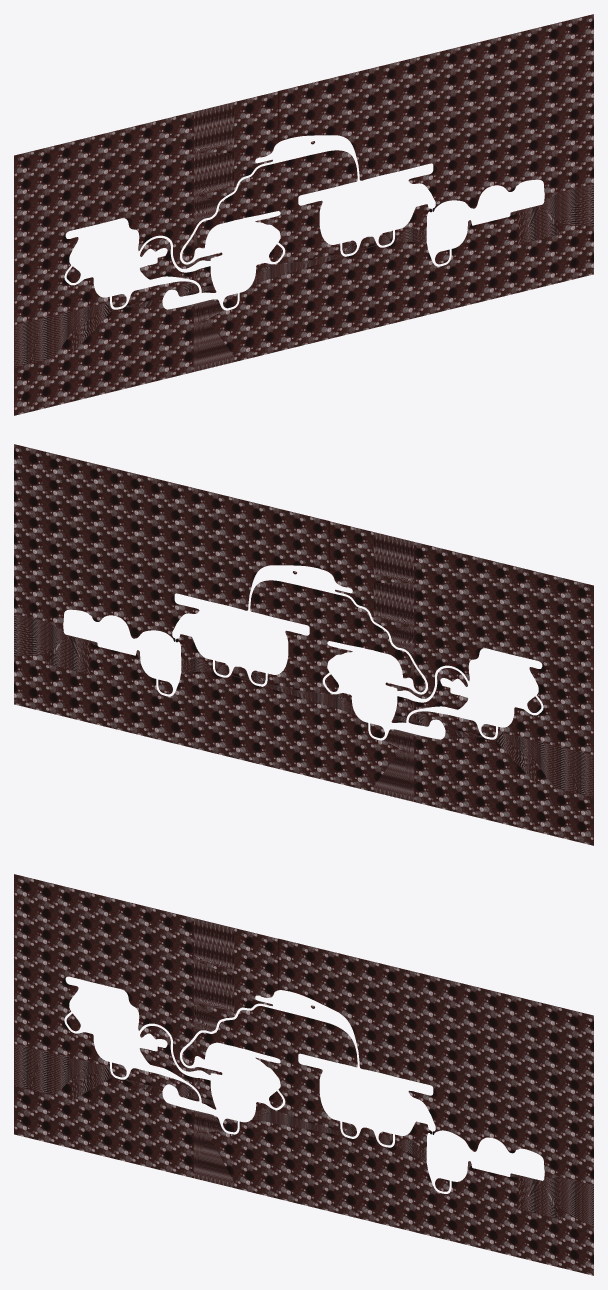
Rendered from star03.glb.
The picture shows the model from 3 angles, top to bottom: view 1: azimuth 30°, elevation 25°; view 2: azimuth 150°, elevation 25°; view 3: azimuth 330°, elevation 25°; orthographic projection.
Parts seen in each view (by area): view 1: star03; view 2: star03; view 3: star03.
Part boxes in pixels (box(x1,y1,x2,y2)): star03: box(14, 14, 593, 415); star03: box(14, 444, 593, 845); star03: box(14, 874, 593, 1275).
Size of the model in its own units: 5713 by 2451 by 0.
Materials: 1 (1 with a texture image).
